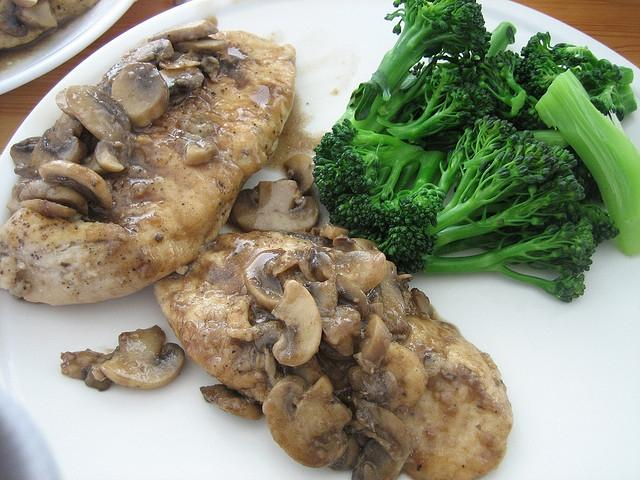broccoli: (419, 116, 617, 302), (313, 119, 446, 274), (534, 69, 638, 256), (371, 0, 493, 100), (376, 64, 474, 140), (474, 50, 526, 118), (514, 52, 567, 100), (587, 79, 625, 123), (520, 30, 554, 57)
mushroom: (262, 374, 353, 468), (99, 325, 186, 389), (342, 392, 416, 461), (228, 178, 320, 232), (111, 62, 170, 127), (66, 85, 131, 141), (380, 341, 428, 412), (30, 112, 88, 170), (226, 296, 284, 352), (106, 39, 174, 86), (322, 246, 388, 294), (244, 248, 286, 311), (379, 260, 411, 341), (18, 180, 89, 215), (353, 314, 392, 376), (61, 348, 116, 391), (199, 384, 264, 420), (292, 270, 340, 316), (352, 440, 406, 480), (348, 366, 398, 404), (158, 67, 204, 105), (148, 20, 220, 44), (272, 246, 318, 282), (336, 274, 370, 321), (321, 307, 362, 345), (174, 132, 217, 165), (283, 154, 316, 194), (14, 0, 58, 28), (12, 162, 44, 200), (94, 140, 125, 172), (159, 48, 203, 70), (10, 136, 42, 166), (172, 38, 228, 54), (200, 53, 220, 82), (410, 288, 430, 314), (319, 223, 349, 240), (332, 236, 363, 252), (262, 347, 276, 379), (12, 0, 38, 8)
